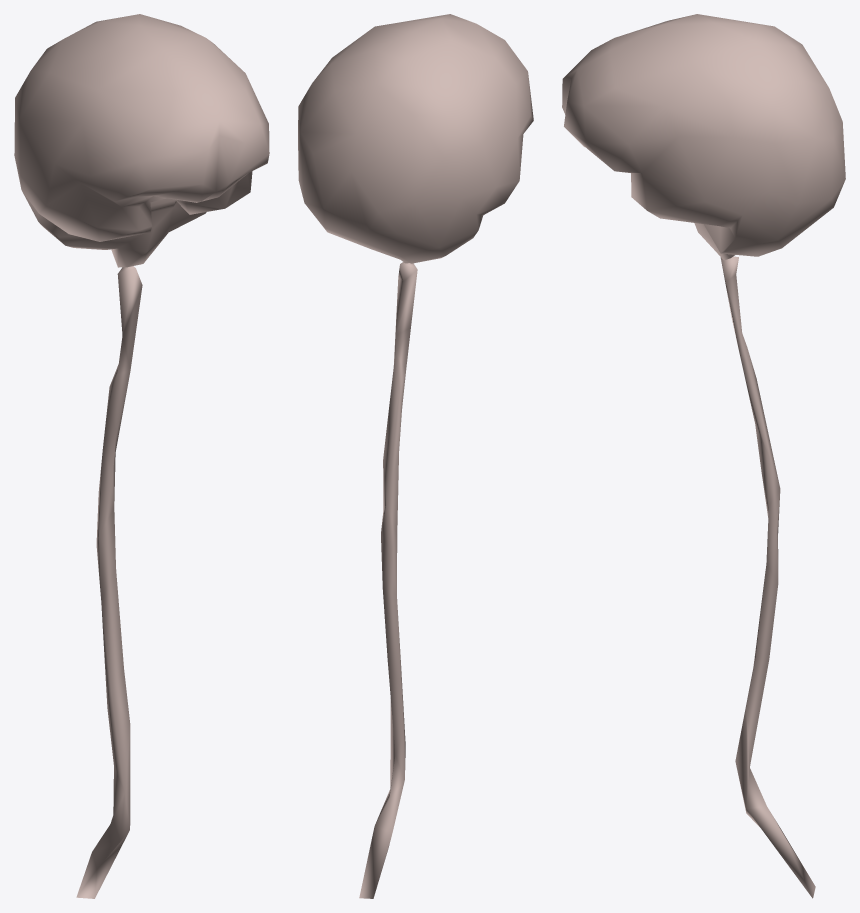
Rendered from pediatric_child_5y_female.nervous.LOD3.glb.
3 renders of one model, left to right at view 1: azimuth 30°, elevation 25°; view 2: azimuth 150°, elevation 25°; view 3: azimuth 270°, elevation 25°, orthographic. The views are drawn at different scales.
Parts seen in each view (by area): view 1: PEDIATRIC.CHILD_5Y.FEMALE.NERVOUS.BRAIN, PEDIATRIC.CHILD_5Y.FEMALE.NERVOUS.SPINAL_CORD; view 2: PEDIATRIC.CHILD_5Y.FEMALE.NERVOUS.BRAIN, PEDIATRIC.CHILD_5Y.FEMALE.NERVOUS.SPINAL_CORD; view 3: PEDIATRIC.CHILD_5Y.FEMALE.NERVOUS.BRAIN, PEDIATRIC.CHILD_5Y.FEMALE.NERVOUS.SPINAL_CORD.
Part boxes in pixels (box(x1,y1,x2,y2)): PEDIATRIC.CHILD_5Y.FEMALE.NERVOUS.BRAIN: box(14, 14, 269, 267); PEDIATRIC.CHILD_5Y.FEMALE.NERVOUS.SPINAL_CORD: box(76, 266, 142, 898); PEDIATRIC.CHILD_5Y.FEMALE.NERVOUS.BRAIN: box(298, 14, 533, 263); PEDIATRIC.CHILD_5Y.FEMALE.NERVOUS.SPINAL_CORD: box(359, 262, 417, 898); PEDIATRIC.CHILD_5Y.FEMALE.NERVOUS.BRAIN: box(562, 14, 845, 260); PEDIATRIC.CHILD_5Y.FEMALE.NERVOUS.SPINAL_CORD: box(720, 256, 815, 898).
Bounding box in the file's own units: 0.126 × 0.5261 × 0.155.
